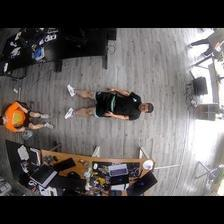fall: (62, 85, 156, 121)
normal: (1, 101, 55, 132), (189, 27, 224, 57)
